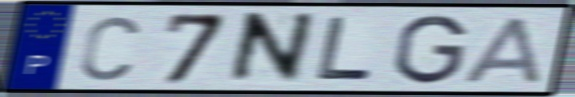7: (162, 11, 229, 86)
A: (460, 14, 545, 85)
C: (77, 13, 143, 82)
G: (391, 12, 470, 86)
L: (312, 14, 375, 83)
N: (222, 10, 320, 87)
